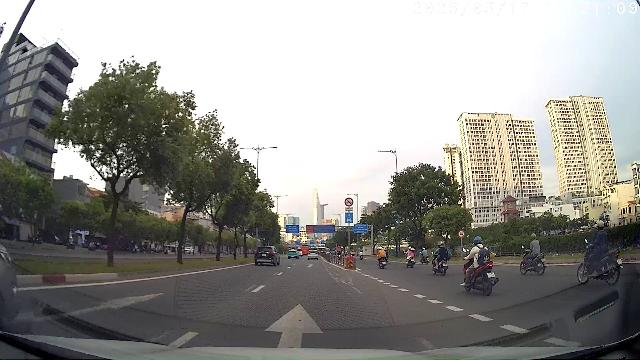103a-cam-oto: (457, 230, 466, 238)
